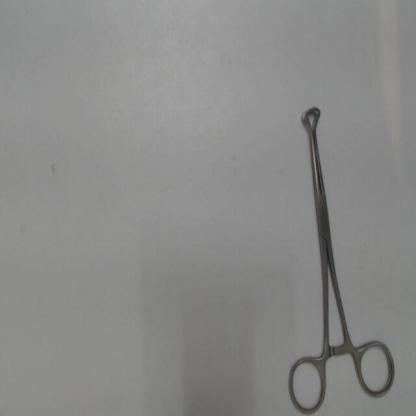Babcock Tissue Forceps: (284, 99, 398, 414)
